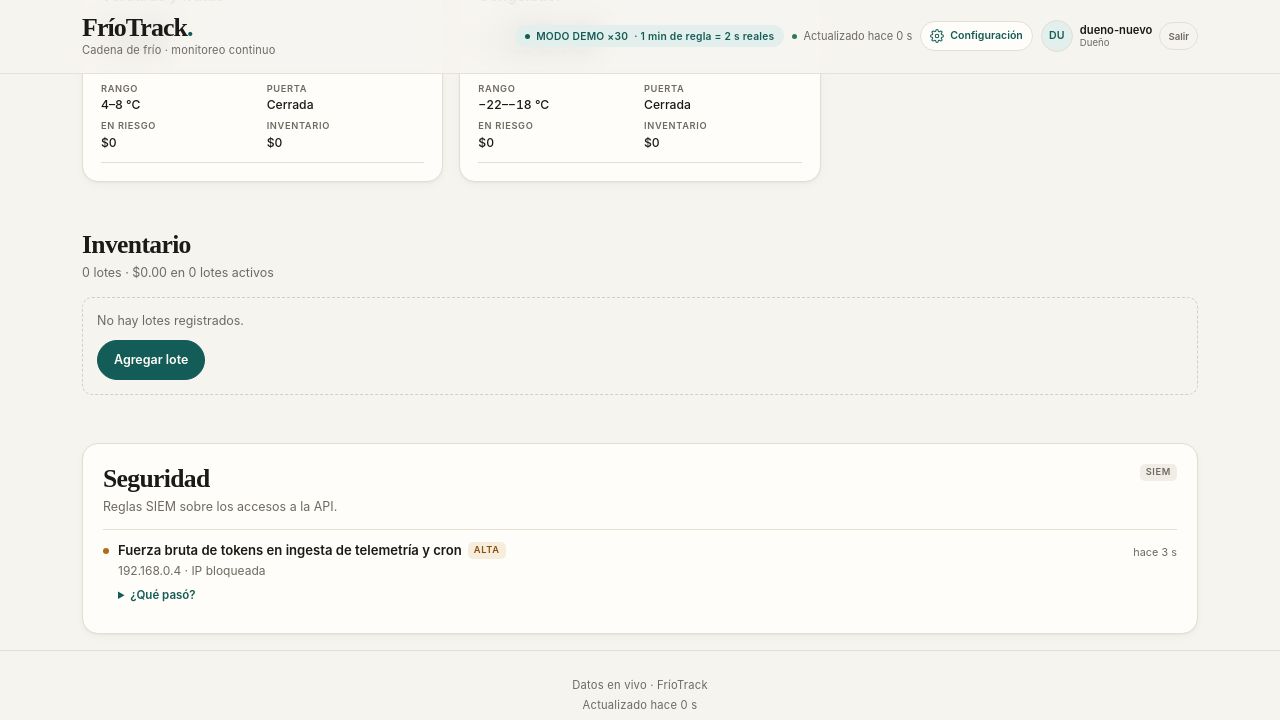
Test: vista general › refresca KPIs y cámaras después de crear un lote
(page scrolled)
Click the button "Agregar lote" at [151, 360], box [97,340,205,380]
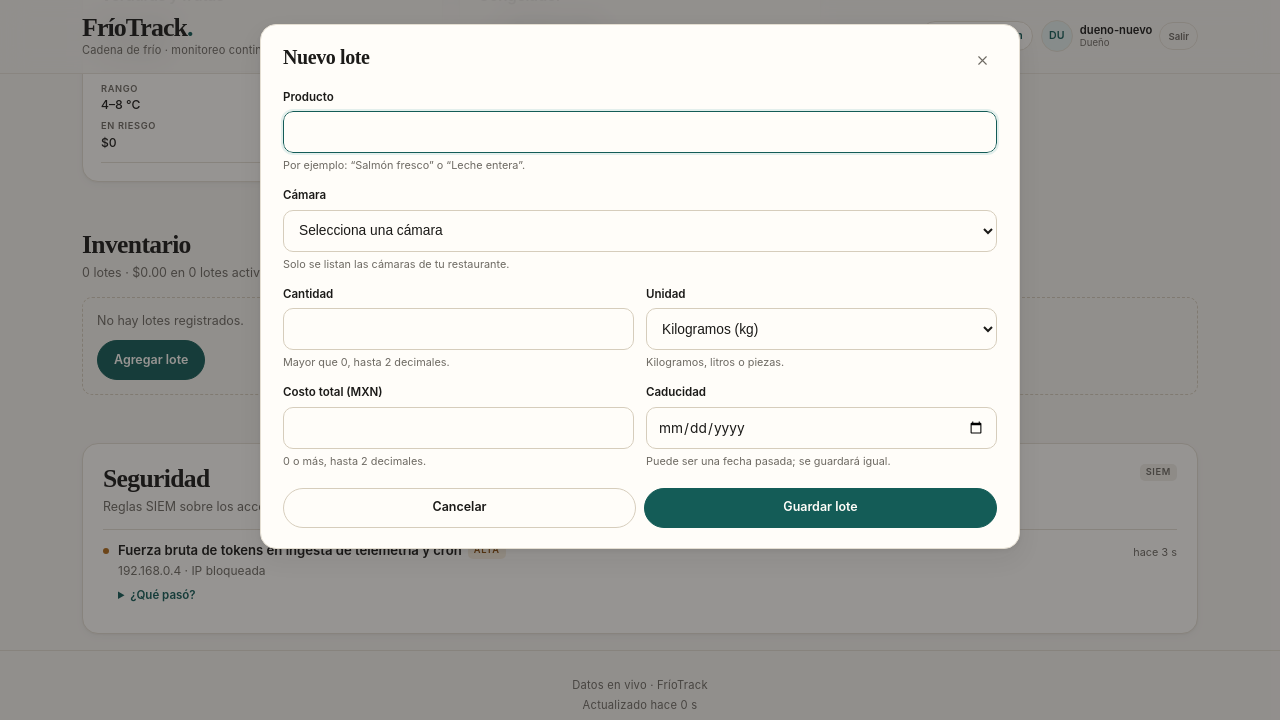
Type "Salmón fresco" into the field labelled "Producto" at [640, 132], box [283,111,997,153]
Select "Pescados y mariscos" in the dropdown labelled "Cámara" at [640, 231], box [283,210,997,252]
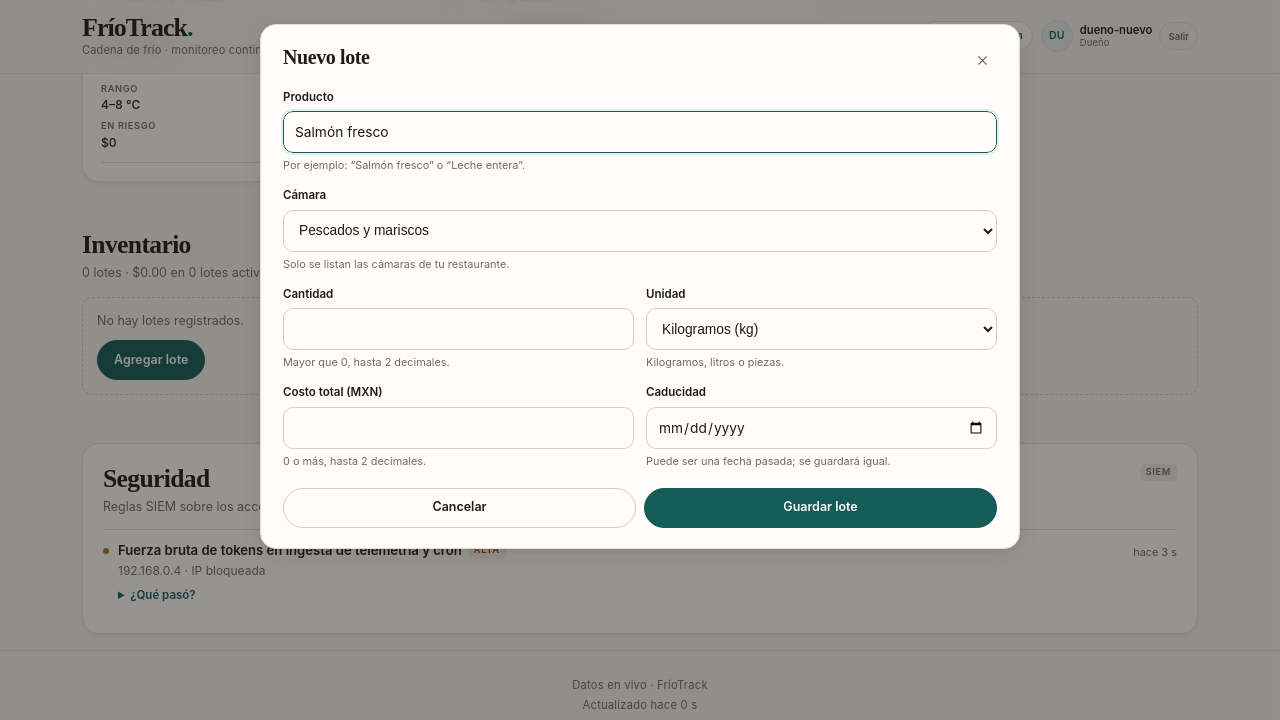
Type "2.5" into the number field labelled "Cantidad" at [458, 329], box [283,308,634,350]
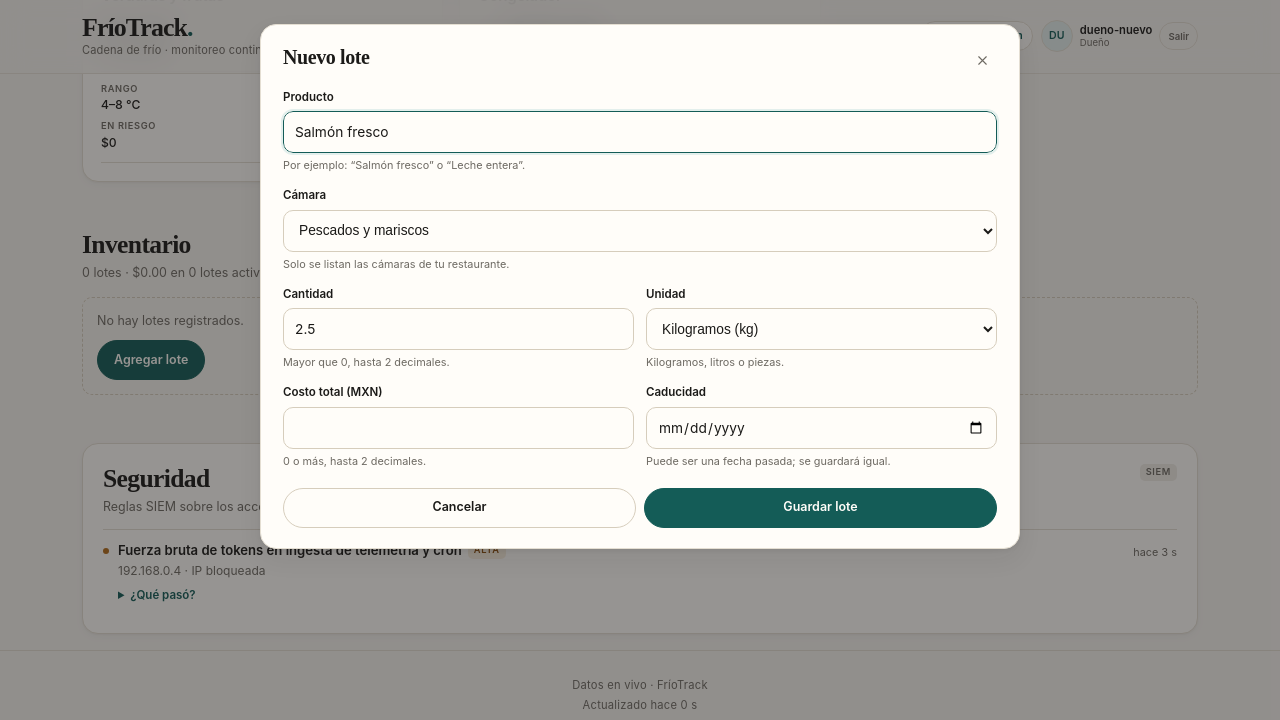
Type "450.50" into the number field labelled "Costo total (MXN)" at [458, 428], box [283,407,634,449]
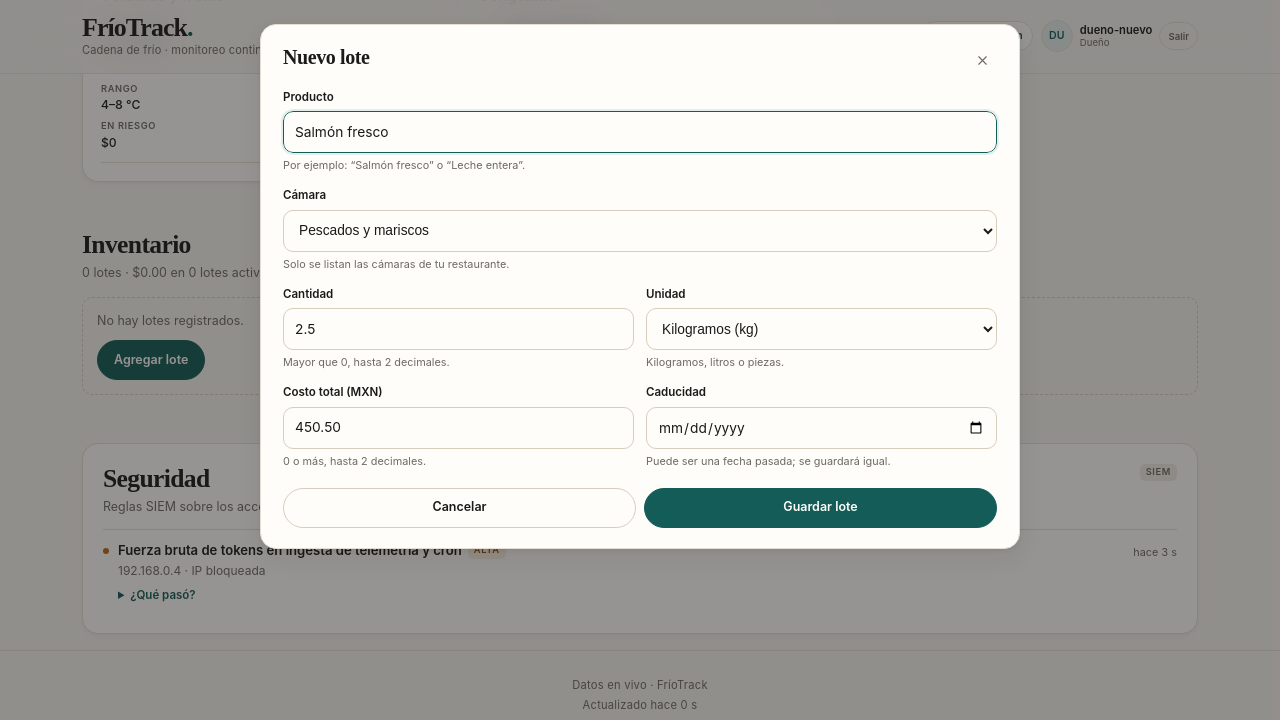
Type "2026-12-31" into the date field labelled "Caducidad" at [822, 428], box [646,407,997,449]
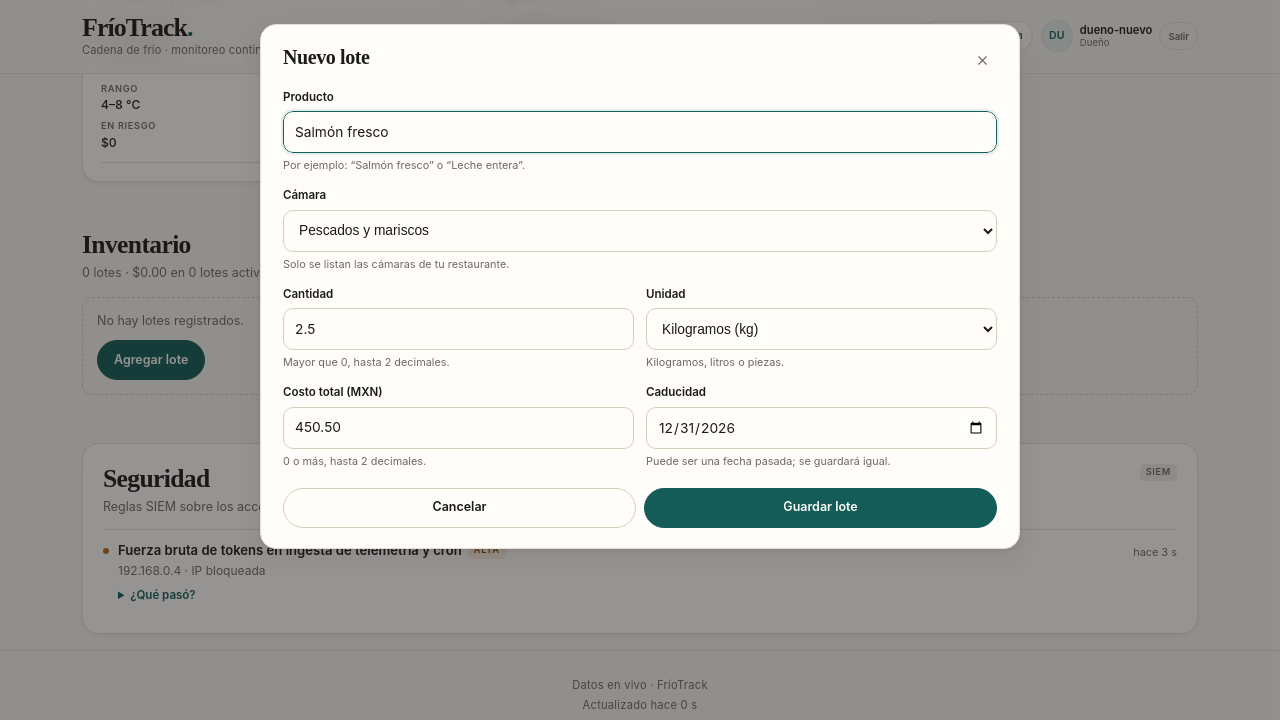
Click the button "Guardar lote" at [820, 508], box [644,488,997,528]
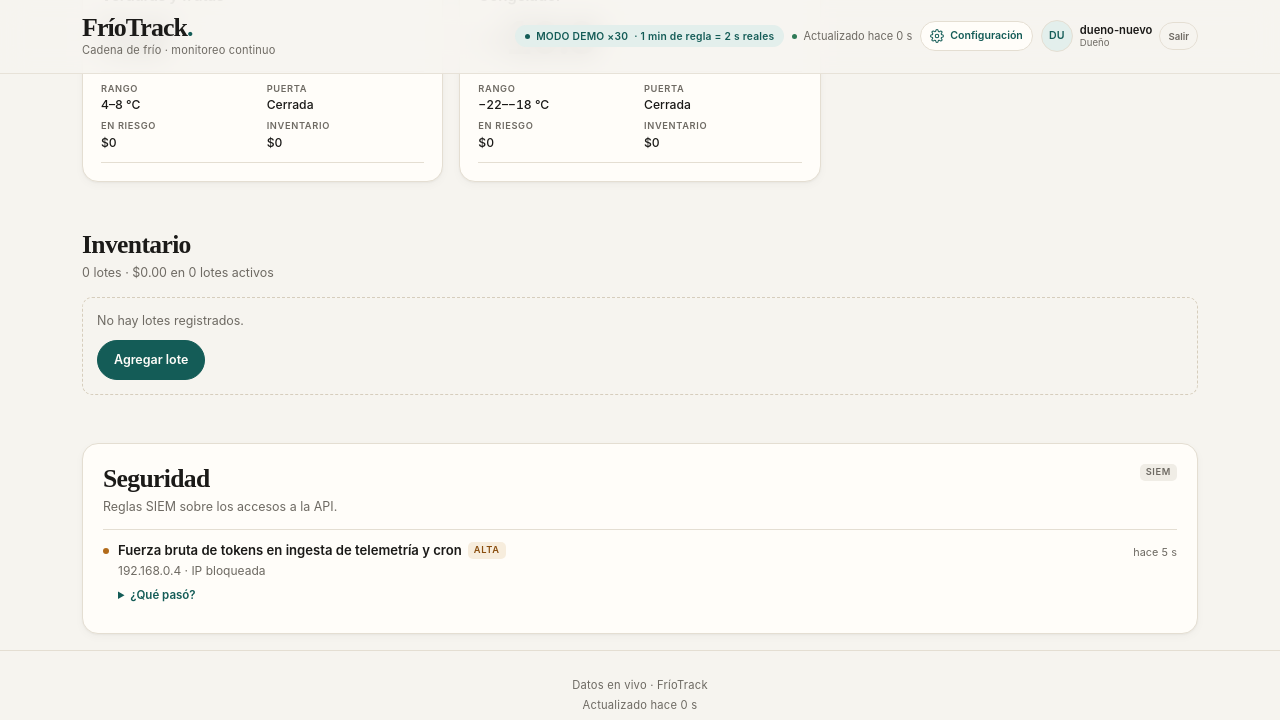
Check: the heading "Nuevo lote" is gone
